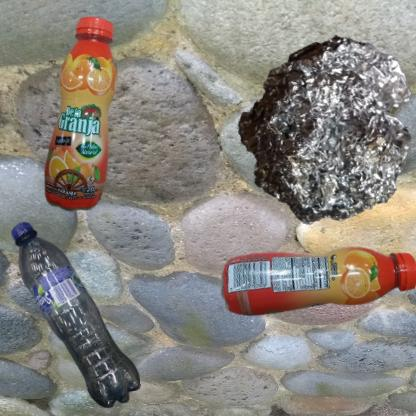aluminio: (213, 10, 416, 265)
botella: (10, 10, 198, 275), (213, 213, 416, 368), (10, 213, 146, 416)
